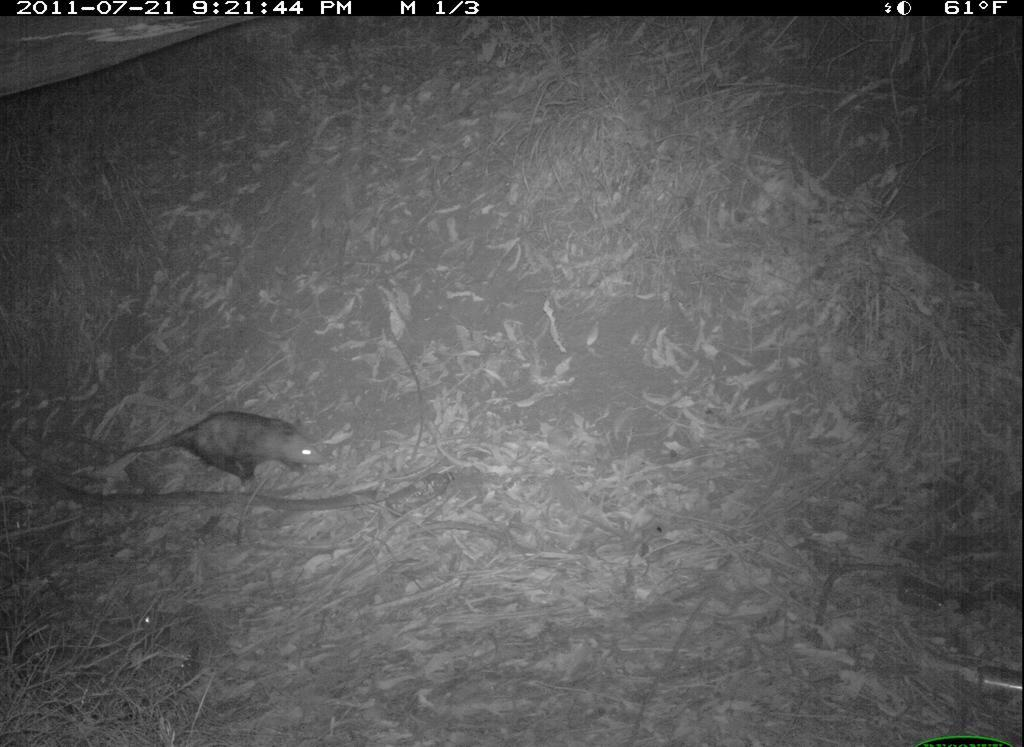opossum: (117, 406, 335, 488)
